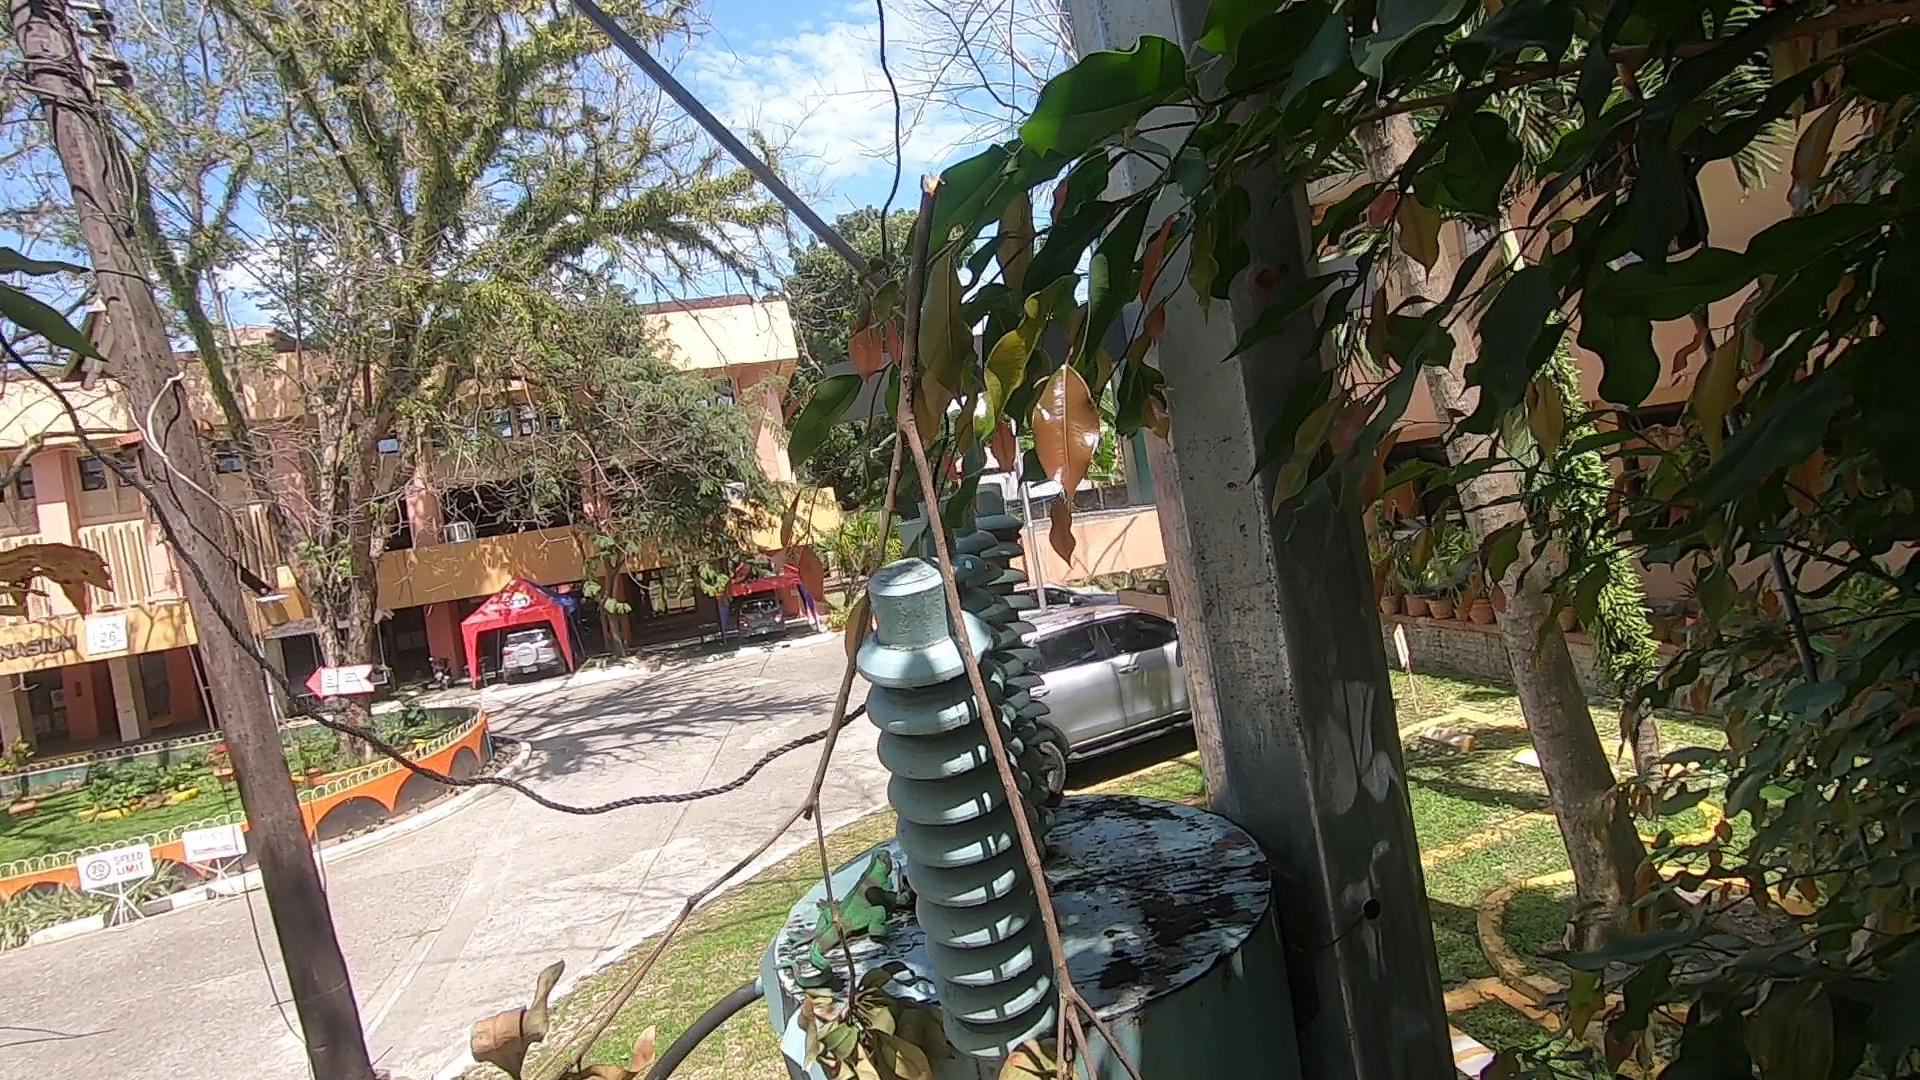branch with leaves: (433, 185, 1163, 1073)
leaf: (881, 866, 913, 931)
